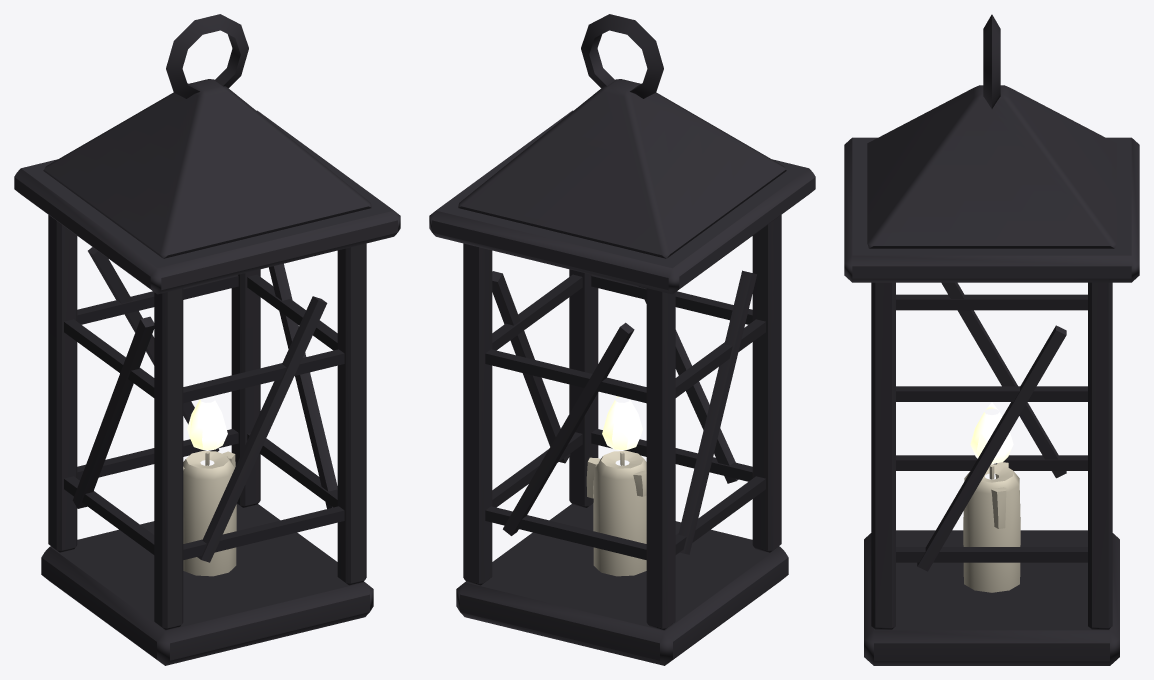
The model's file is lantern_ironCage.glb.
3 renders of one model, left to right at view 1: azimuth 30°, elevation 25°; view 2: azimuth 150°, elevation 25°; view 3: azimuth 270°, elevation 25°, orthographic. The views are drawn at different scales.
Visible parts, largest first — view 1: lantern_ironCage, bulb; view 2: lantern_ironCage, bulb; view 3: lantern_ironCage, bulb.
Part boxes in pixels (x1,y1,x2,y2): lantern_ironCage: (14,14,400,665); bulb: (187,396,227,450); lantern_ironCage: (429,14,815,665); bulb: (602,396,642,450); lantern_ironCage: (844,14,1139,665); bulb: (970,402,1013,464).
Bounding box in the file's own units: 0.3 × 0.6676 × 0.3.
